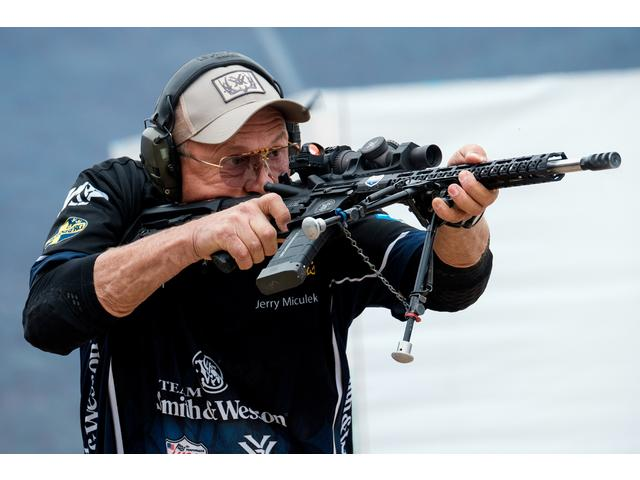rifle: (124, 136, 631, 296)
